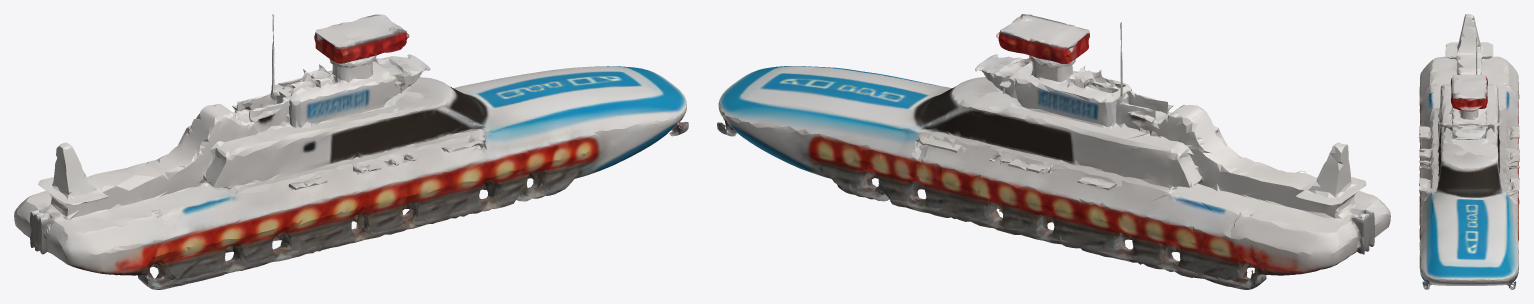
The model's file is police_cruiser.glb.
3 views of the same model, side by side, from view 1: azimuth 30°, elevation 25°; view 2: azimuth 150°, elevation 25°; view 3: azimuth 270°, elevation 25° (orthographic). The views are drawn at different scales.
Parts seen in each view (by area): view 1: police_cruiser; view 2: police_cruiser; view 3: police_cruiser.
Part boxes in pixels (<box>): police_cruiser: <box>14,14,688,289</box>; police_cruiser: <box>717,14,1390,289</box>; police_cruiser: <box>1419,14,1519,289</box>.
Size of the model in its own units: 1.9 by 0.6025 by 0.3755.
Materials: 1 (1 with a texture image).
